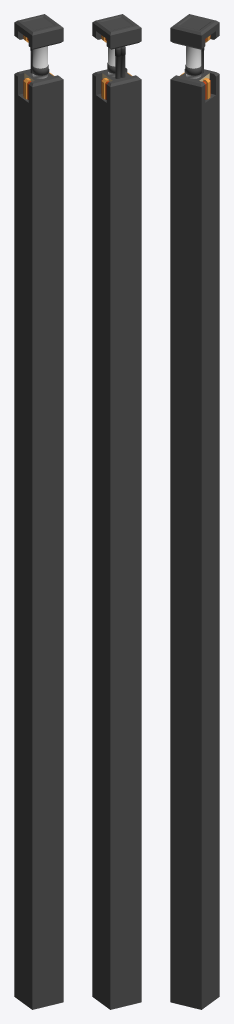
The model's file is BobbleArena-Column.fbx.
3 views of the same model, side by side, from view 1: azimuth 30°, elevation 25°; view 2: azimuth 210°, elevation 25°; view 3: azimuth 330°, elevation 25° (orthographic).
Parts seen in each view (by area): view 1: Cube.001, Cube.002, Cube; view 2: Cube.001, Cube.002, Cube; view 3: Cube.001, Cube.002, Cube.
Boxes of the visible parts, x1=… form: Cube.001: x1=14, y1=69, x2=63, y2=1009; Cube.002: x1=14, y1=14, x2=63, y2=49; Cube: x1=30, y1=46, x2=48, y2=78; Cube.001: x1=92, y1=68, x2=141, y2=1009; Cube.002: x1=92, y1=14, x2=141, y2=49; Cube: x1=107, y1=46, x2=125, y2=78; Cube.001: x1=170, y1=69, x2=219, y2=1009; Cube.002: x1=170, y1=14, x2=219, y2=49; Cube: x1=185, y1=46, x2=204, y2=78.
Bounding box in the file's own units: 2 × 59.53 × 2.
